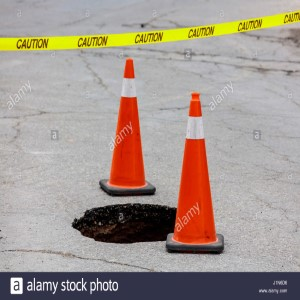traffic cone: (166, 92, 224, 253), (99, 58, 155, 196)
